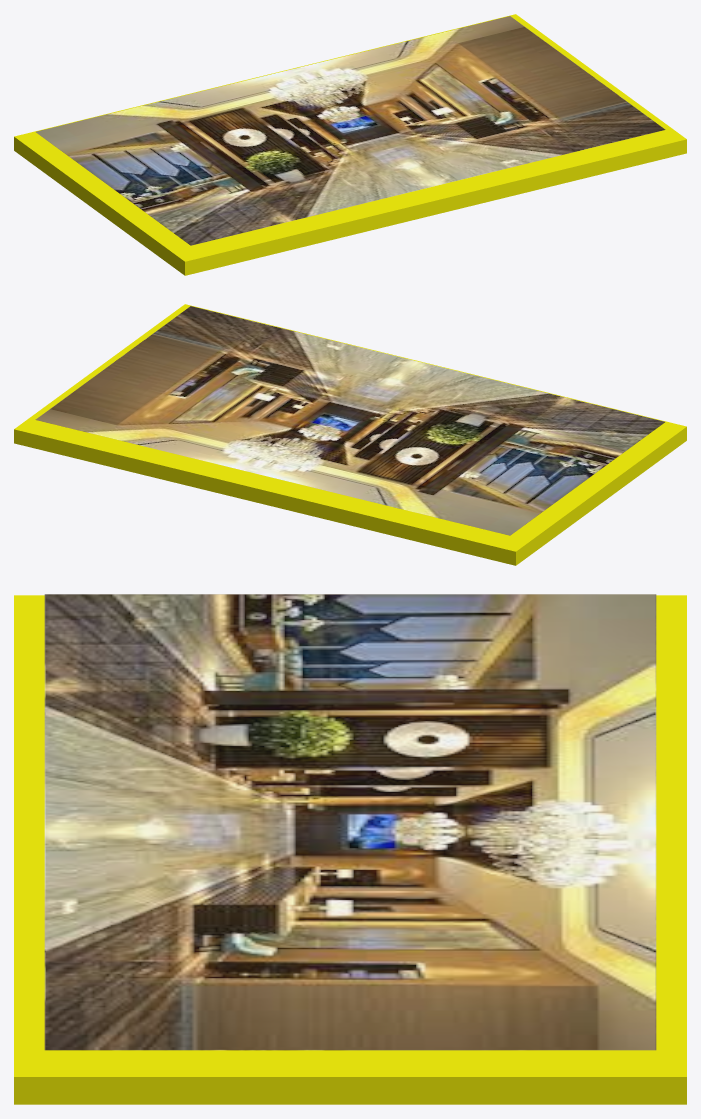
The picture shows the model from 3 angles, top to bottom: view 1: azimuth 30°, elevation 25°; view 2: azimuth 150°, elevation 25°; view 3: azimuth 270°, elevation 25°; orthographic projection. The views are drawn at different scales.
Visible parts, largest first — view 1: PhotoPlane, PhotoBorder; view 2: PhotoPlane, PhotoBorder; view 3: PhotoPlane, PhotoBorder.
Boxes of the visible parts, x1=… form: PhotoPlane: x1=36, y1=16, x2=665, y2=245; PhotoBorder: x1=14, y1=14, x2=686, y2=275; PhotoPlane: x1=35, y1=306, x2=664, y2=535; PhotoBorder: x1=14, y1=304, x2=686, y2=565; PhotoPlane: x1=44, y1=594, x2=656, y2=1050; PhotoBorder: x1=14, y1=595, x2=686, y2=1104.
Bounding box in the file's own units: 18.63 × 0.75 × 11.
Materials: 2 (1 with a texture image).
